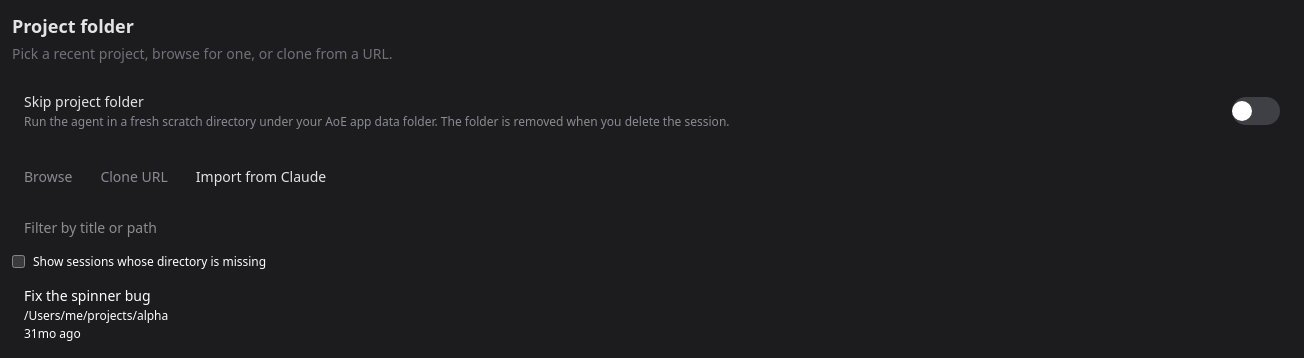
Test: ProjectStep Import from Claude tab (#2276) › filters by title
The image size is (1304, 358).
Expected: the text "Fix the spinner bug" is shown, left=24, top=286, right=151, bottom=306
Type "spinner" into the field named "Filter Claude sessions" at (652, 228), box left=12, top=210, right=1292, bottom=246
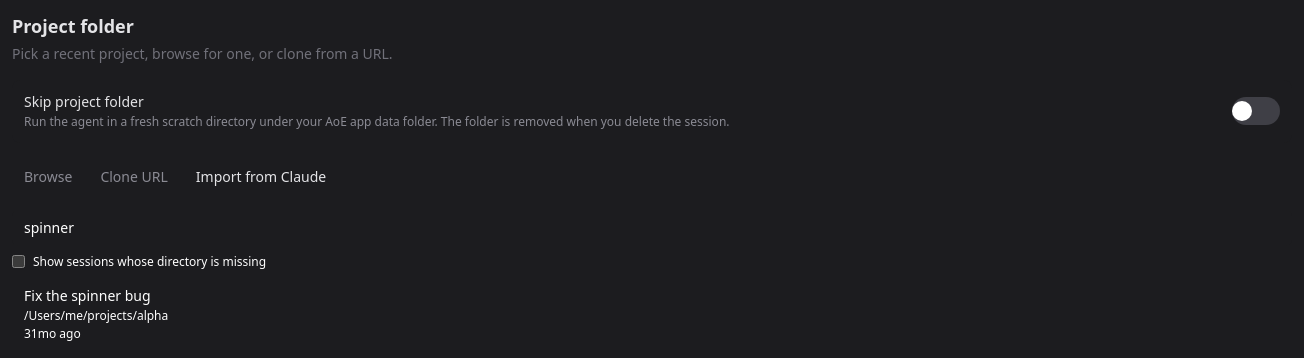
Expected: the text "Fix the spinner bug" is shown, left=24, top=286, right=151, bottom=306
Replace the text in the field named "Filter Claude sessions" with "zzznomatch" at (652, 228), box left=12, top=210, right=1292, bottom=246
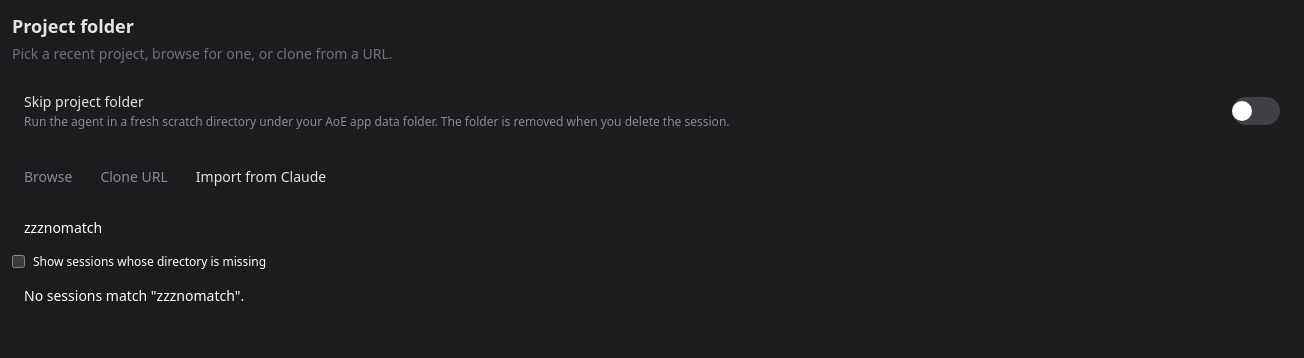
Result: the button "Fix the spinner bug" is gone
